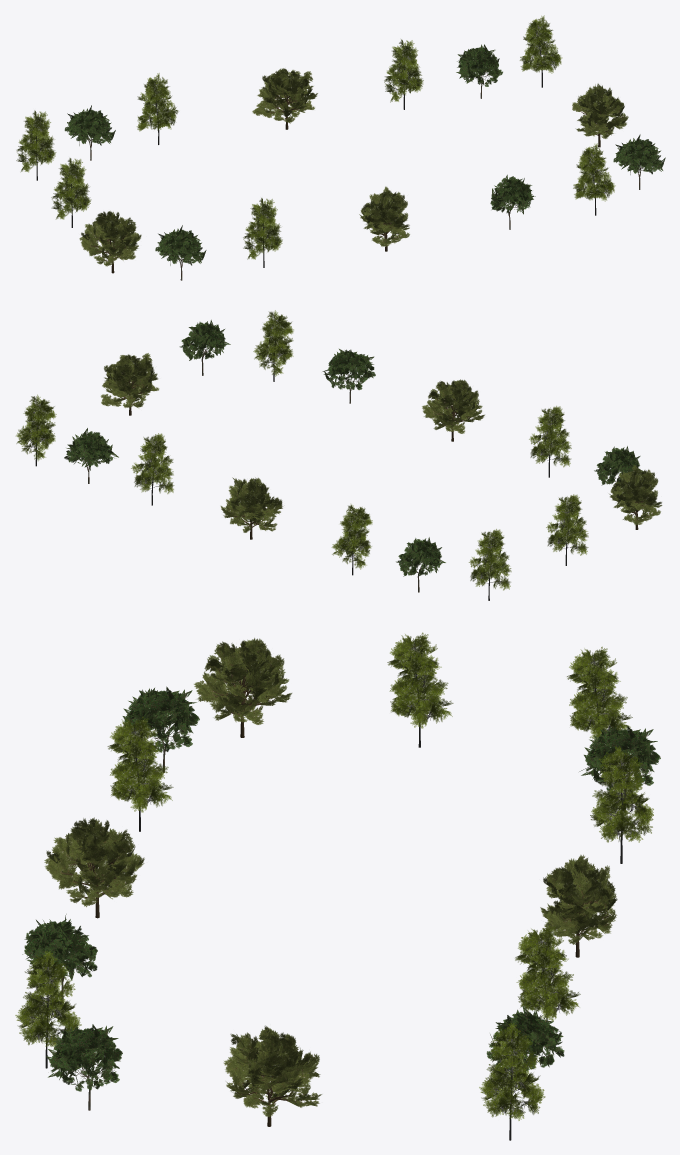
The model's file is building_trees-transformed.glb.
The picture shows the model from 3 angles, top to bottom: view 1: azimuth 30°, elevation 25°; view 2: azimuth 150°, elevation 25°; view 3: azimuth 270°, elevation 25°; orthographic projection. The views are drawn at different scales.
Parts seen in each view (by area): view 1: tree2.001, tree3.001, tree1.001; view 2: tree2.001, tree3.001, tree1.001; view 3: tree2.001, tree3.001, tree1.001.
Boxes of the visible parts, left/top/right/bottom form: tree2.001: left=16, top=15, right=615, bottom=267; tree3.001: left=79, top=68, right=628, bottom=273; tree1.001: left=64, top=44, right=665, bottom=280; tree2.001: left=16, top=310, right=588, bottom=600; tree3.001: left=100, top=353, right=662, bottom=539; tree1.001: left=64, top=319, right=643, bottom=592; tree2.001: left=15, top=632, right=653, bottom=1140; tree3.001: left=44, top=638, right=617, bottom=1126; tree1.001: left=22, top=686, right=660, bottom=1110.
Bounding box in the file's own units: 90.93 × 11.71 × 56.9.
Materials: 6 (6 with a texture image).
